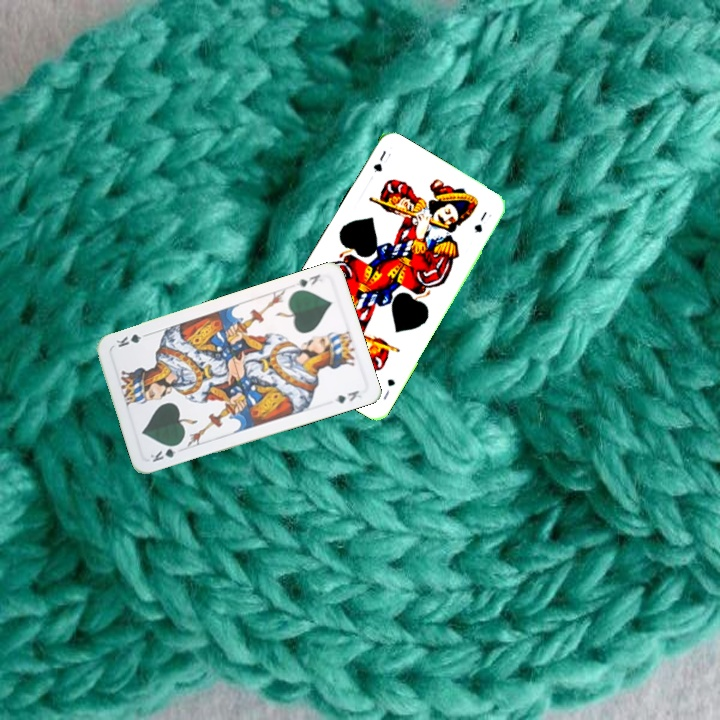GK: (146, 440, 183, 465), (293, 270, 323, 290)
GU: (369, 146, 389, 174), (379, 375, 398, 402)
